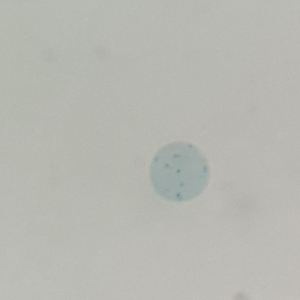punctate reticulocyte: (147, 139, 209, 203)
